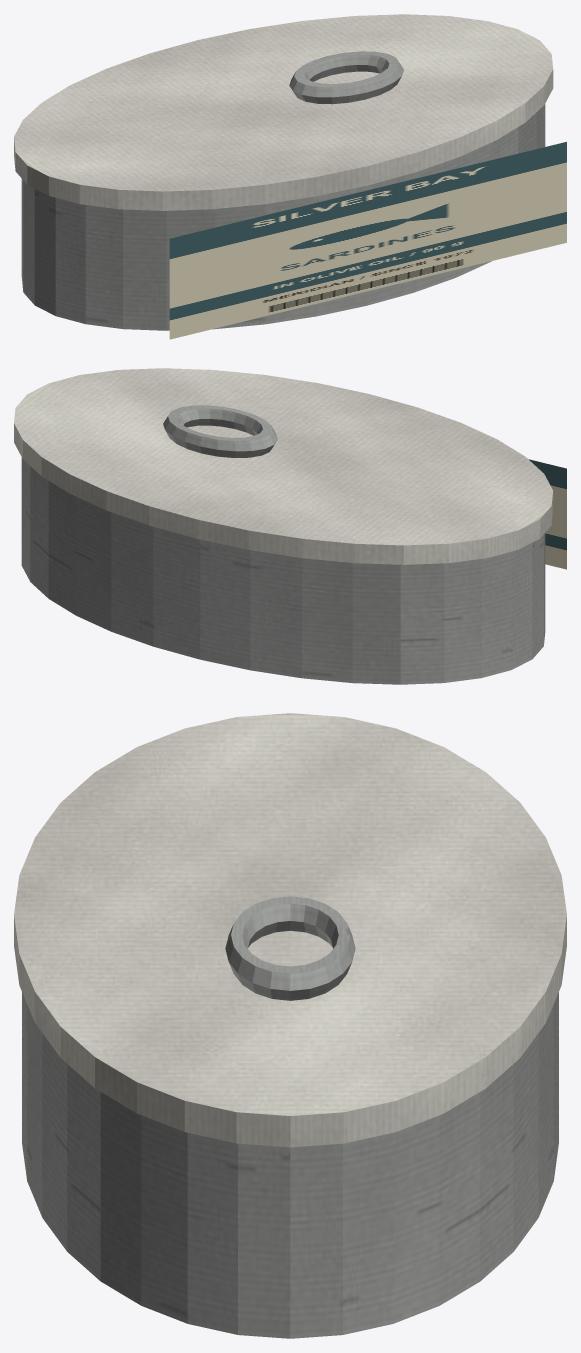
Rendered from product_sardine_tin.glb.
3 views of the same model, one above another, from view 1: azimuth 30°, elevation 25°; view 2: azimuth 150°, elevation 25°; view 3: azimuth 270°, elevation 25° (orthographic). The views are drawn at different scales.
Visible parts, largest first — view 1: NC_product_sardine_tin; view 2: NC_product_sardine_tin; view 3: NC_product_sardine_tin.
Boxes of the visible parts, box(x1,y1,x2,y2) form: NC_product_sardine_tin: box(14, 14, 566, 339); NC_product_sardine_tin: box(14, 368, 566, 684); NC_product_sardine_tin: box(14, 713, 566, 1338).
Size of the model in its own units: 0.138 by 0.0412 by 0.08.
Materials: 3 (3 with a texture image).
